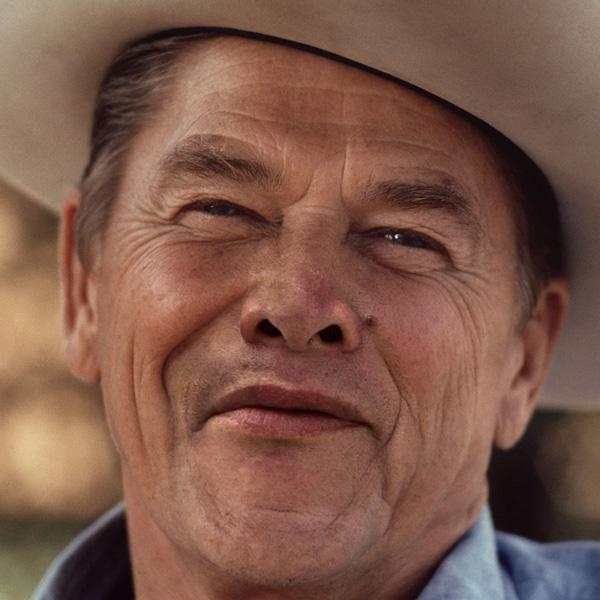Eyes: (345, 204, 462, 285), (164, 178, 284, 255)
